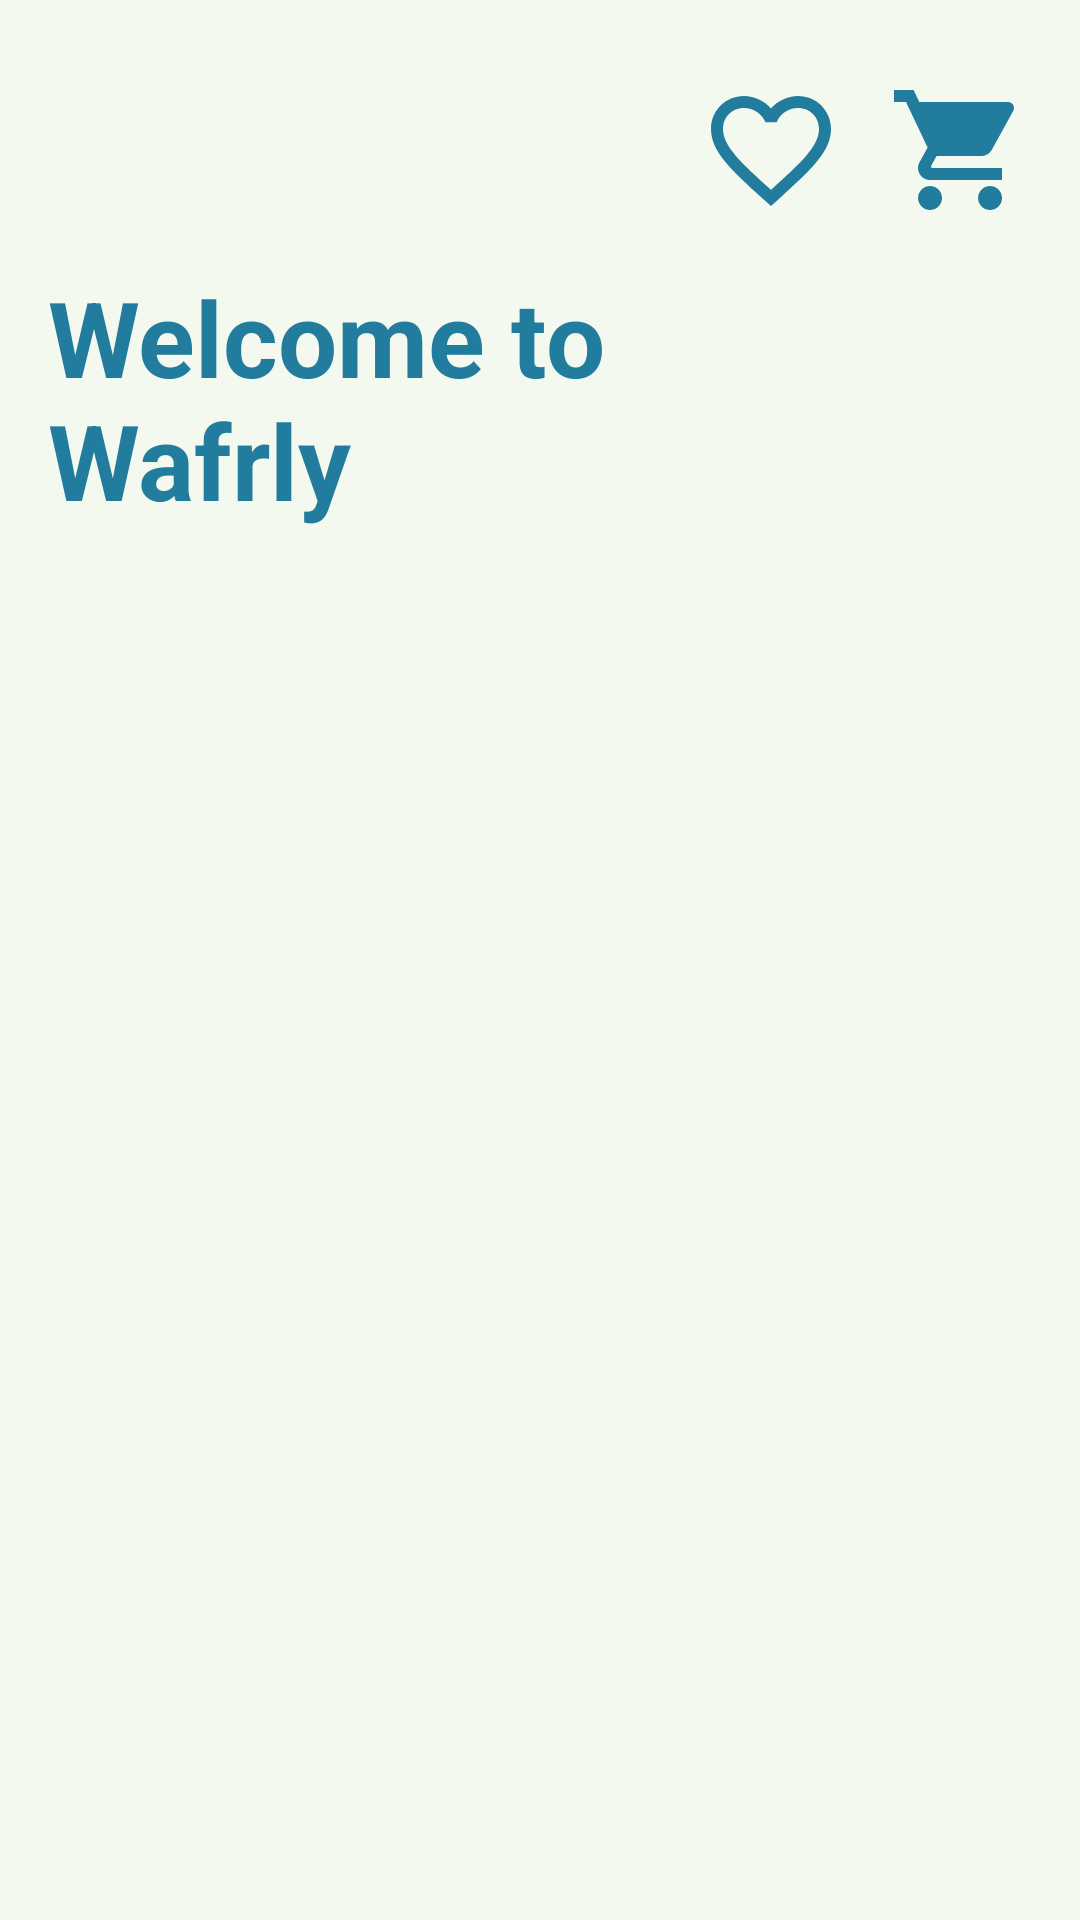

Icon click points for this 1080px×1920px phone screenshot, format (x,y):
favorite border: (771,151)
shopping cart: (954,150)
